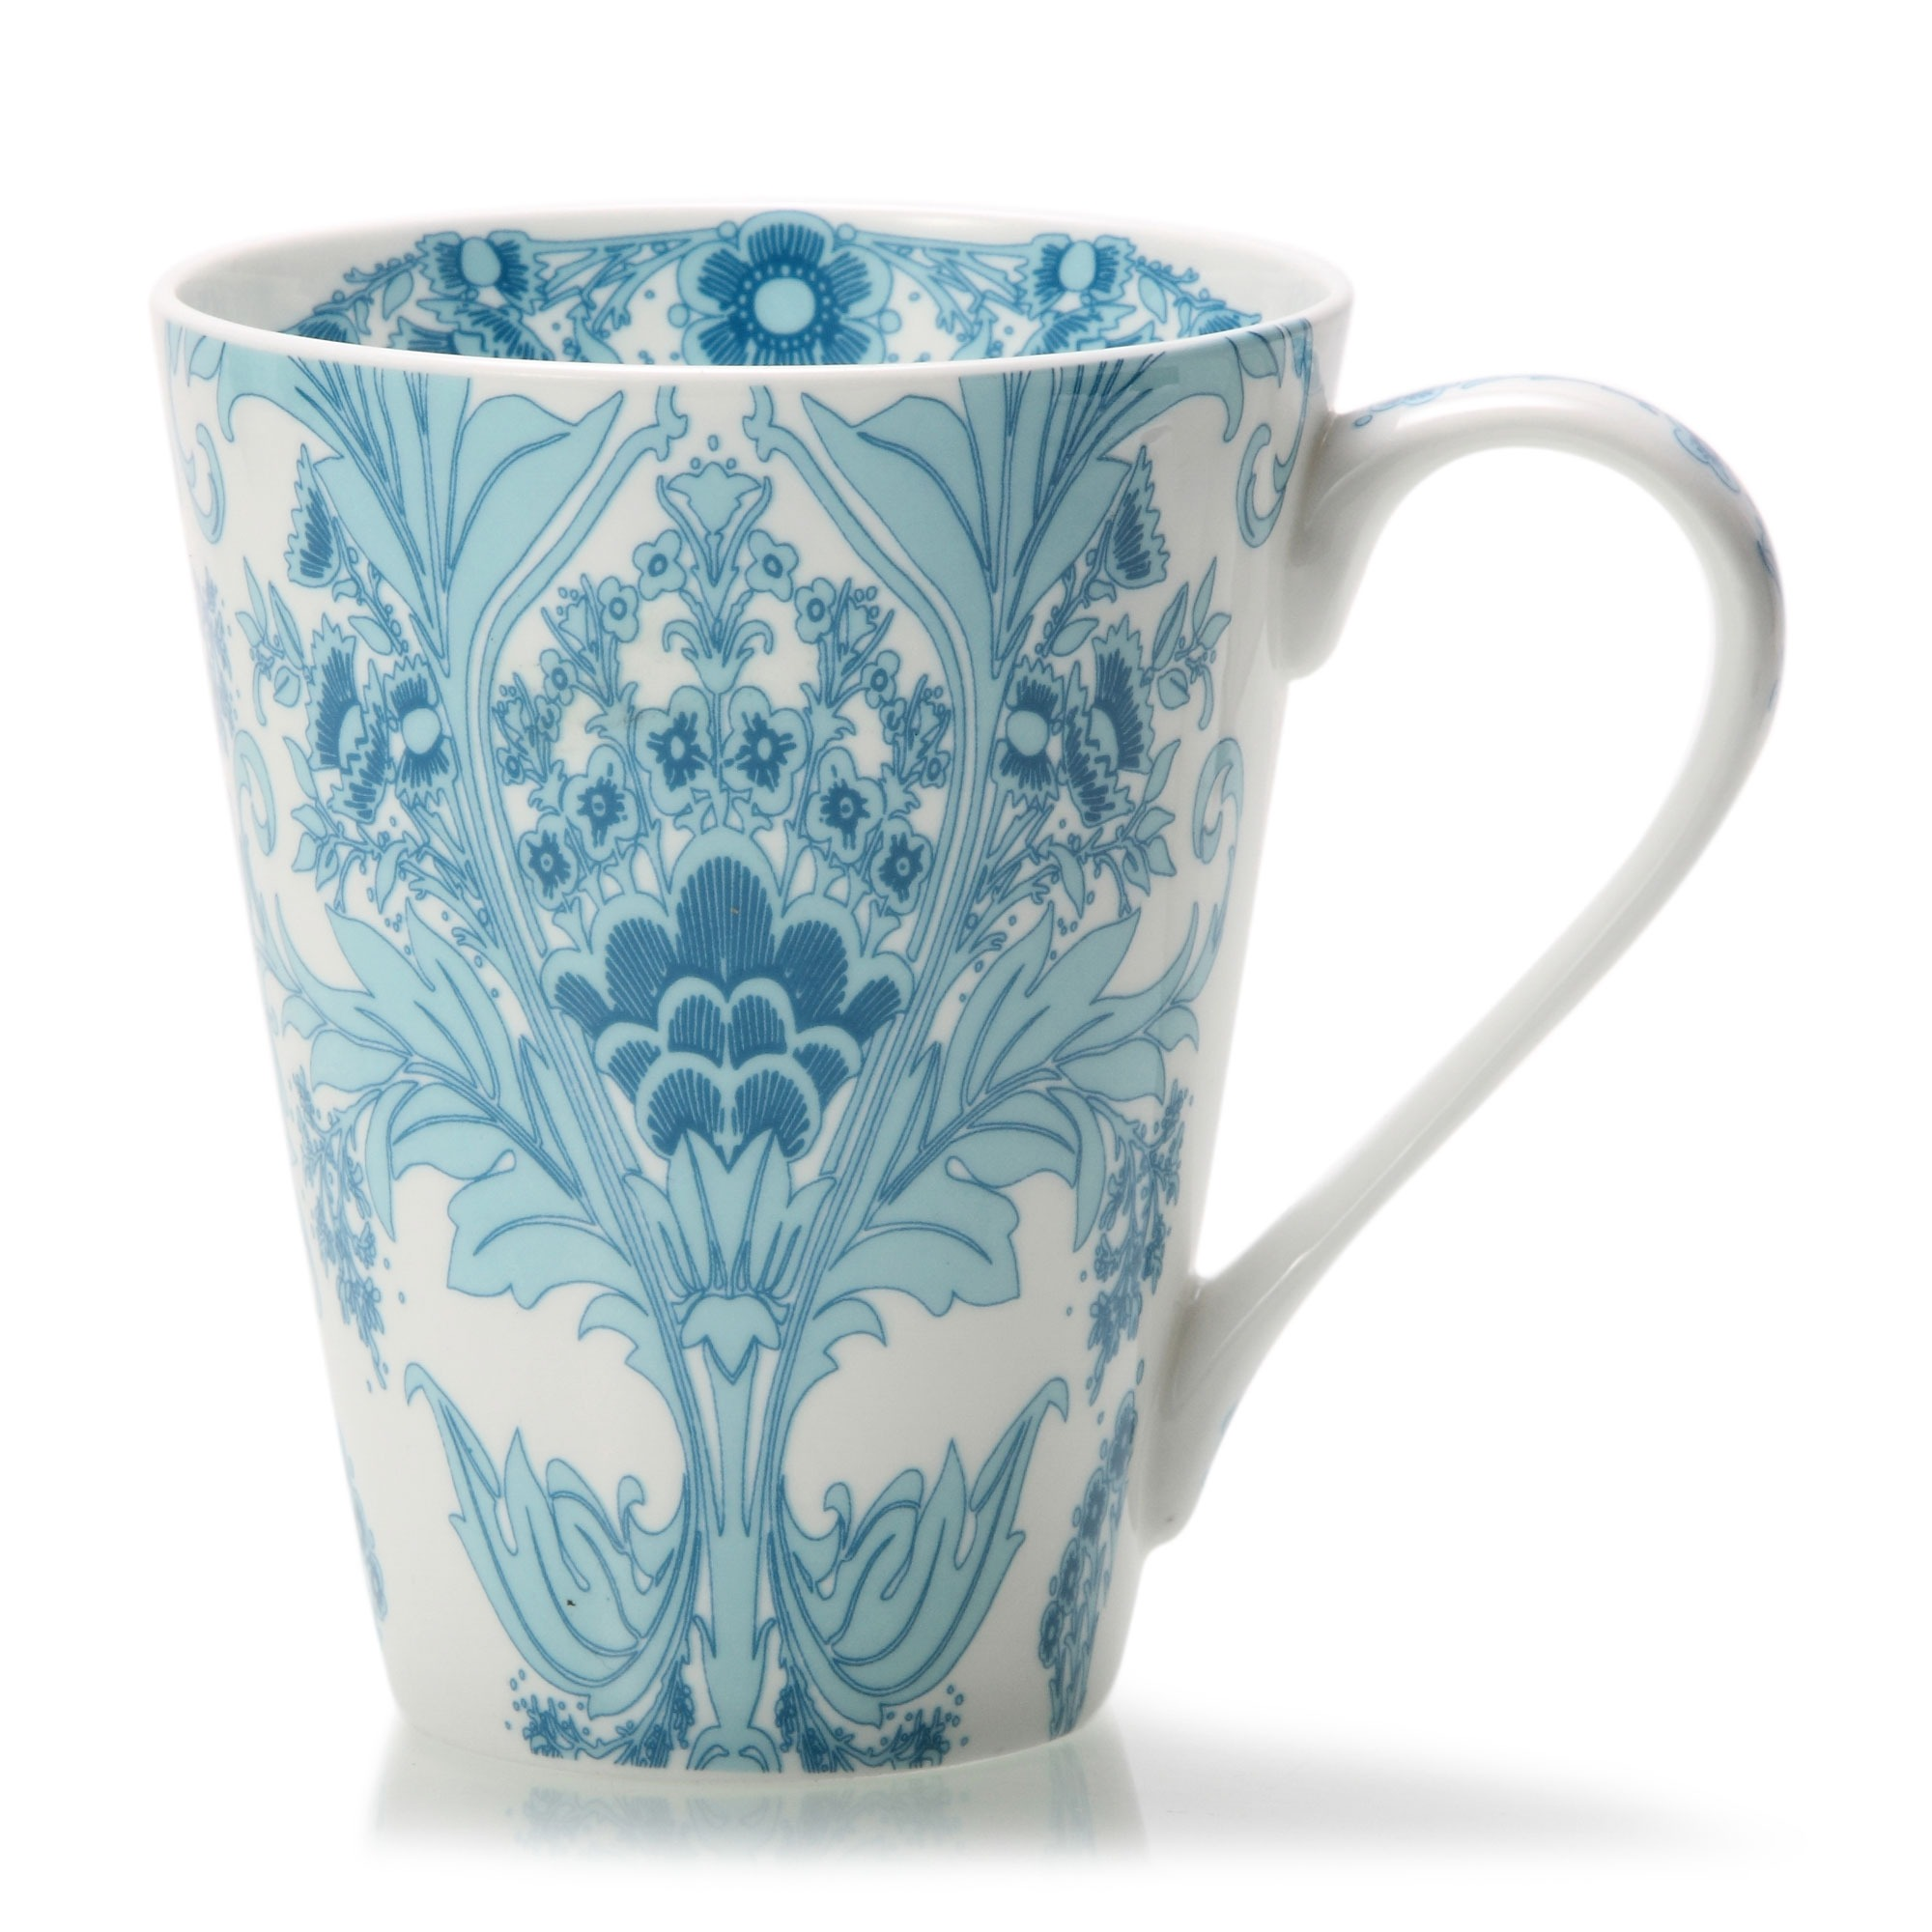cup: (150, 195, 1792, 1794)
